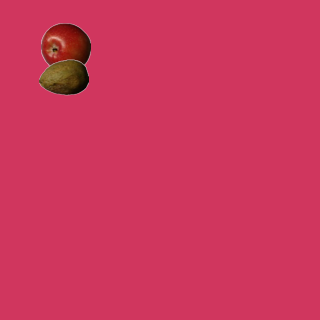Apple Braeburn: (40, 22, 90, 72)
Papaya: (38, 52, 88, 102)
